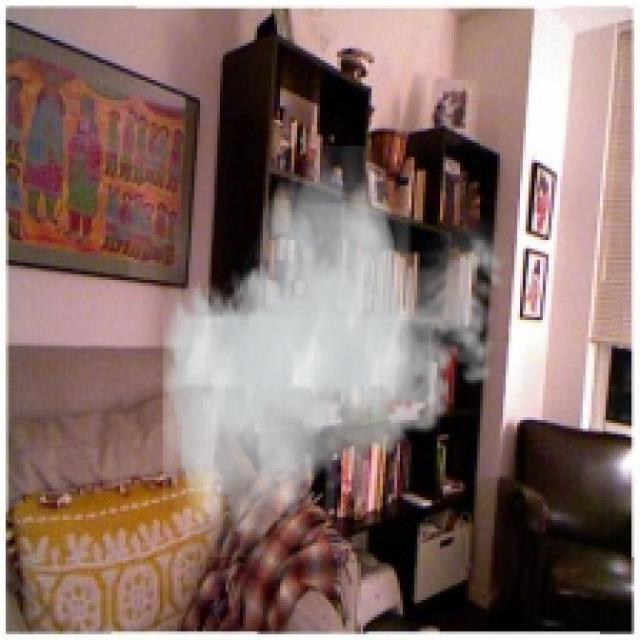Smoke: (162, 145, 514, 558)
